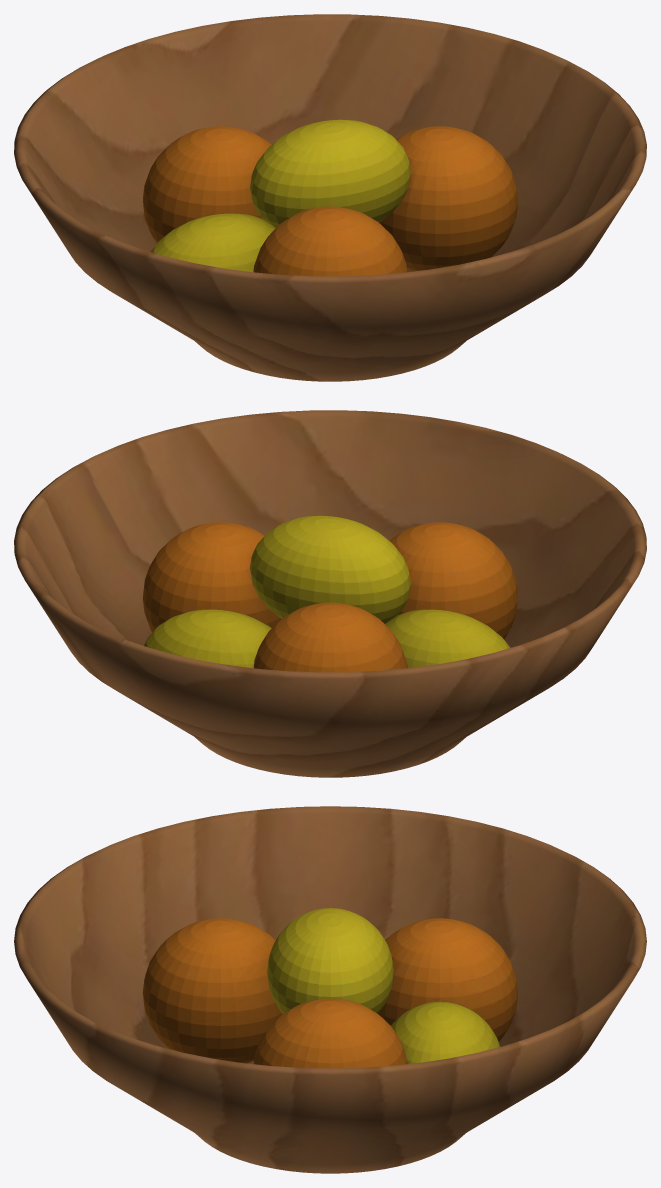
File: citrus-wood-bowl.glb
3 renders of one model, top to bottom at view 1: azimuth 30°, elevation 25°; view 2: azimuth 150°, elevation 25°; view 3: azimuth 270°, elevation 25°, orthographic.
Visible parts, largest first — view 1: wood_z, orange_peel, lemon_peel; view 2: wood_z, orange_peel, lemon_peel; view 3: wood_z, orange_peel, lemon_peel.
Boxes of the visible parts, left/top/right/bottom form: wood_z: left=14, top=14, right=646, bottom=381; orange_peel: left=143, top=126, right=517, bottom=276; lemon_peel: left=150, top=119, right=410, bottom=272; wood_z: left=14, top=410, right=646, bottom=777; orange_peel: left=143, top=522, right=517, bottom=672; lemon_peel: left=144, top=515, right=510, bottom=668; wood_z: left=14, top=806, right=646, bottom=1173; orange_peel: left=143, top=918, right=517, bottom=1068; lemon_peel: left=267, top=908, right=500, bottom=1063.
Size of the model in its own units: 0.3 by 0.1016 by 0.3.
3 materials, 3 textured.
